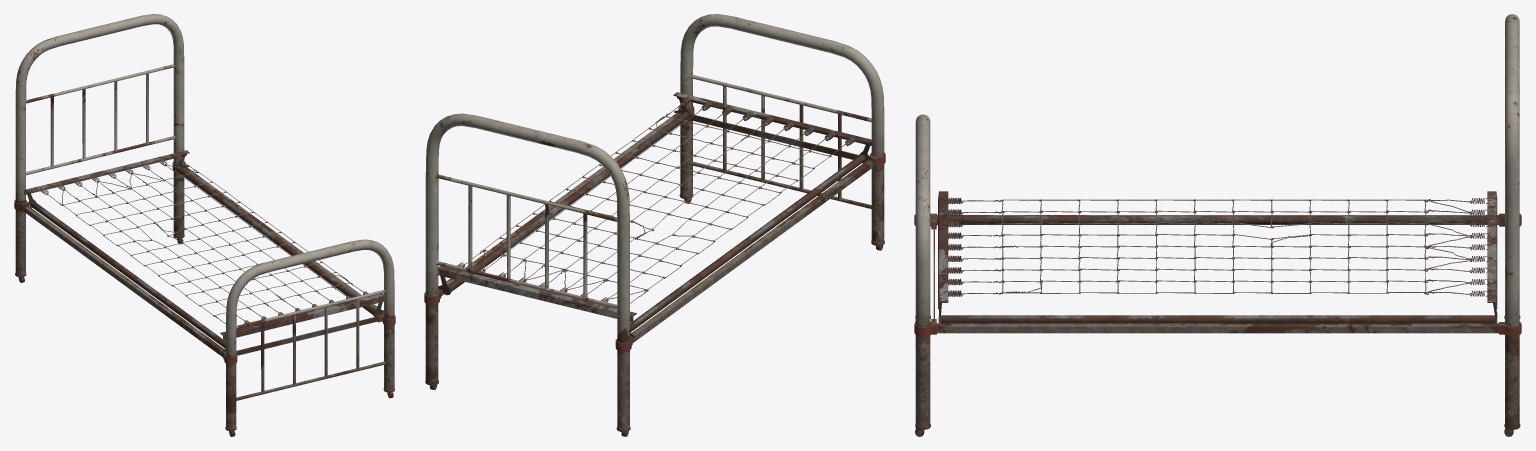
File: old_bed_frame.glb
The picture shows the model from 3 angles, left to right: view 1: azimuth 30°, elevation 25°; view 2: azimuth 150°, elevation 25°; view 3: azimuth 270°, elevation 25°; orthographic projection. The views are drawn at different scales.
Visible parts, largest first — view 1: old_bed_frame; view 2: old_bed_frame; view 3: old_bed_frame.
Part boxes in pixels (<box>): old_bed_frame: <box>14,14,395,436</box>; old_bed_frame: <box>424,14,885,436</box>; old_bed_frame: <box>914,14,1521,436</box>.
Size of the model in its own units: 0.9047 by 1.2 by 2.
Materials: 1 (1 with a texture image).
